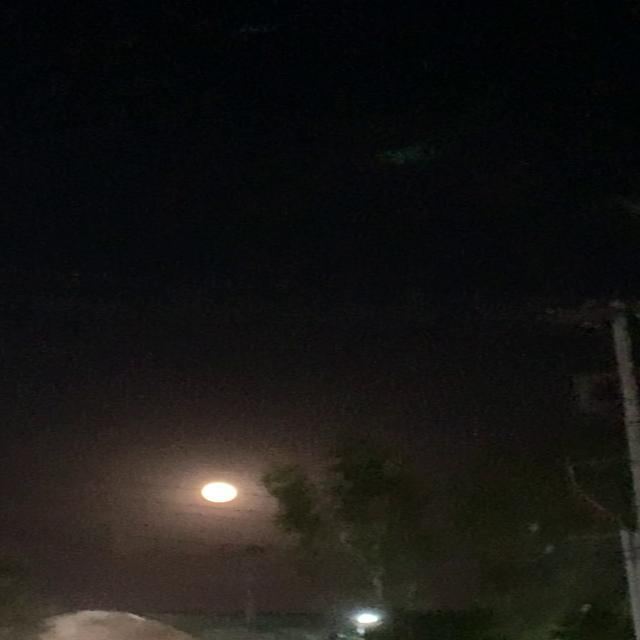moon: (198, 477, 252, 503)
